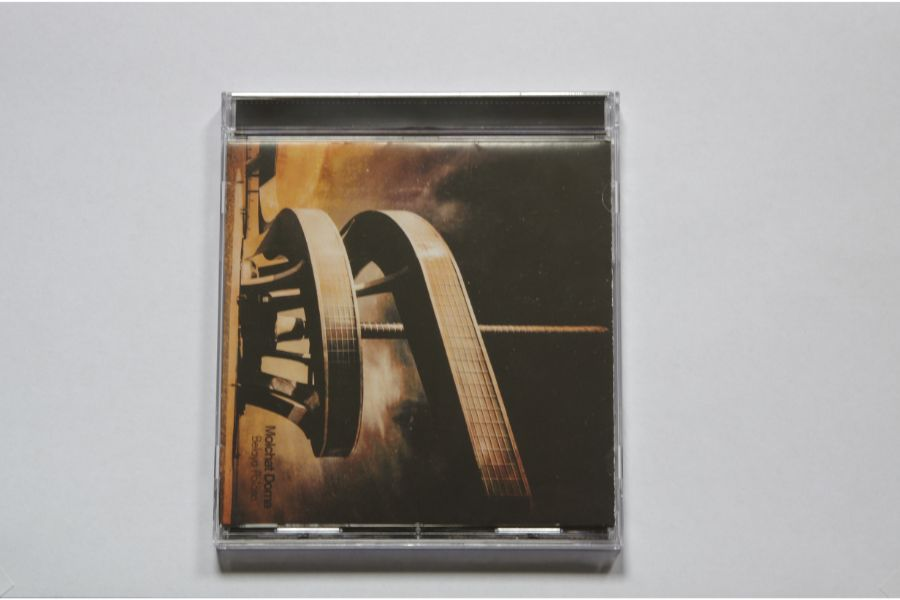album: (209, 91, 625, 563)
